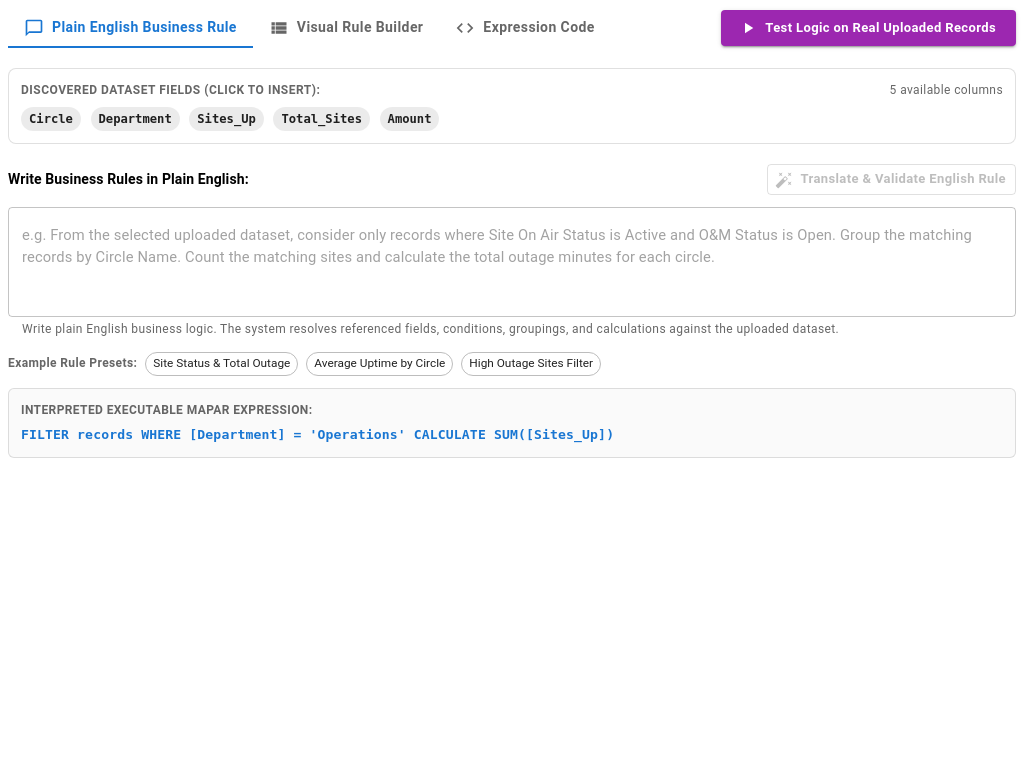
Test: KPILogicEditor Component › runs ad-hoc test on real data and displays calculated value & preview table
The image size is (1024, 768).
What coordinates should you click on to do the following:
click the button "Test Logic on Real Uploaded Records"
I would click on:
 (869, 28)
Its box is [721, 10, 1016, 46].
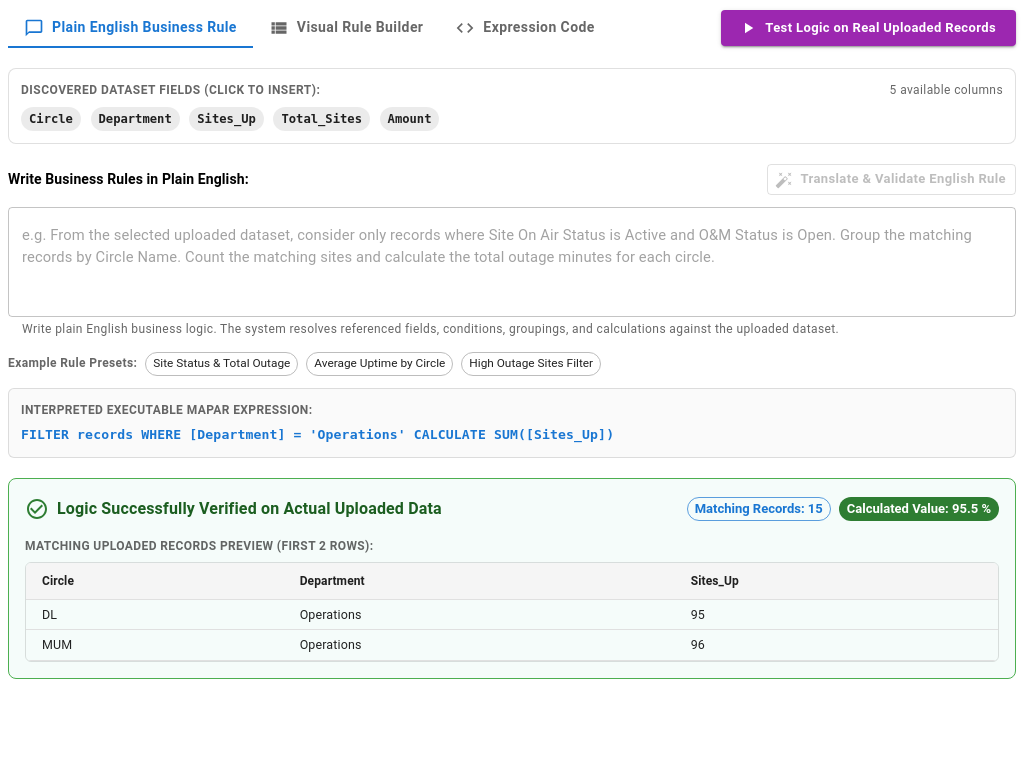
Check: the heading "Logic Successfully Verified on Actual Uploaded Data" is shown, box [57, 494, 442, 522]
Check: the text "Matching Records: 15" is shown, box [688, 499, 830, 518]
Check: the text "Calculated Value: 95.5 %" is shown, box [839, 499, 999, 518]
